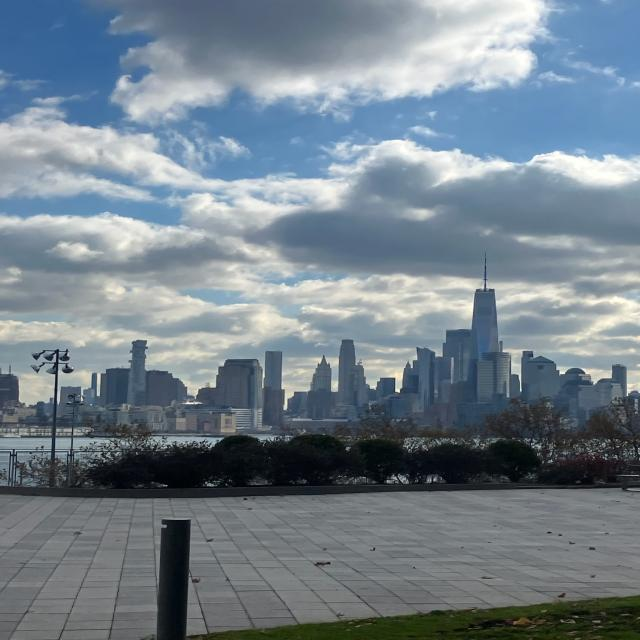WTC: (471, 252, 499, 353)
